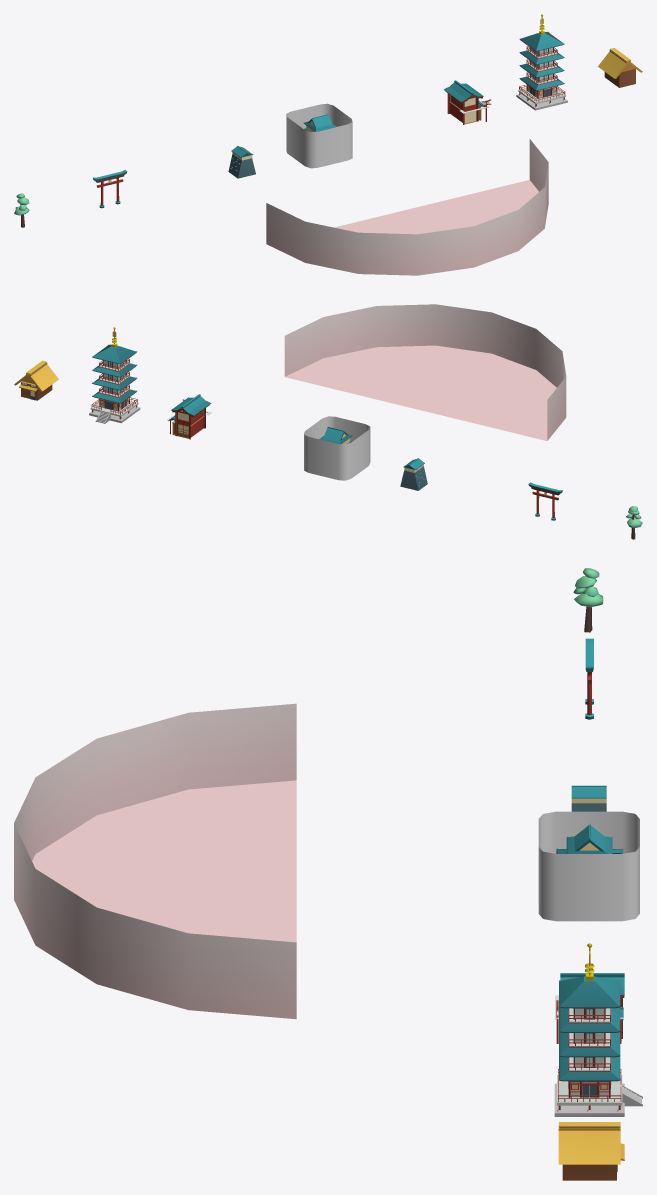
The model's file is assets_t2_a3.fbx.
The picture shows the model from 3 angles, top to bottom: view 1: azimuth 30°, elevation 25°; view 2: azimuth 150°, elevation 25°; view 3: azimuth 270°, elevation 25°; orthographic projection. The views are drawn at different scales.
Visible parts, largest first — view 1: ground_t2_era3, godray_t2_era3, assets_t2_era3_11, assets_t2_era3_10, assets_t2_era3_12, assets_t2_era3_7, assets_t2_era3_5, assets_t2_era3_8; view 2: ground_t2_era3, godray_t2_era3, assets_t2_era3_11, assets_t2_era3_10, assets_t2_era3_12, assets_t2_era3_7, assets_t2_era3_5, assets_t2_era3_8; view 3: ground_t2_era3, godray_t2_era3, assets_t2_era3_11, assets_t2_era3_12, assets_t2_era3_8, assets_t2_era3_3, assets_t2_era3_7.
Part boxes in pixels (x1=…): ground_t2_era3: x1=266, y1=139, x2=548, y2=275; godray_t2_era3: x1=286, y1=103, x2=352, y2=168; assets_t2_era3_11: x1=516, y1=14, x2=567, y2=110; assets_t2_era3_10: x1=444, y1=80, x2=491, y2=124; assets_t2_era3_12: x1=598, y1=48, x2=642, y2=87; assets_t2_era3_7: x1=228, y1=145, x2=255, y2=178; assets_t2_era3_5: x1=93, y1=170, x2=127, y2=208; assets_t2_era3_8: x1=303, y1=114, x2=336, y2=131; ground_t2_era3: x1=284, y1=304, x2=566, y2=440; godray_t2_era3: x1=304, y1=416, x2=370, y2=480; assets_t2_era3_11: x1=89, y1=327, x2=140, y2=423; assets_t2_era3_10: x1=167, y1=394, x2=211, y2=439; assets_t2_era3_12: x1=14, y1=360, x2=58, y2=400; assets_t2_era3_7: x1=400, y1=458, x2=427, y2=490; assets_t2_era3_5: x1=528, y1=482, x2=562, y2=520; assets_t2_era3_8: x1=319, y1=427, x2=352, y2=444; ground_t2_era3: x1=14, y1=703, x2=296, y2=1019; godray_t2_era3: x1=538, y1=811, x2=639, y2=921; assets_t2_era3_11: x1=554, y1=943, x2=642, y2=1116; assets_t2_era3_12: x1=558, y1=1122, x2=624, y2=1180; assets_t2_era3_8: x1=556, y1=823, x2=623, y2=853; assets_t2_era3_3: x1=573, y1=568, x2=603, y2=632; assets_t2_era3_7: x1=571, y1=785, x2=606, y2=811.
Size of the model in its own units: 381 by 50.08 by 180.
